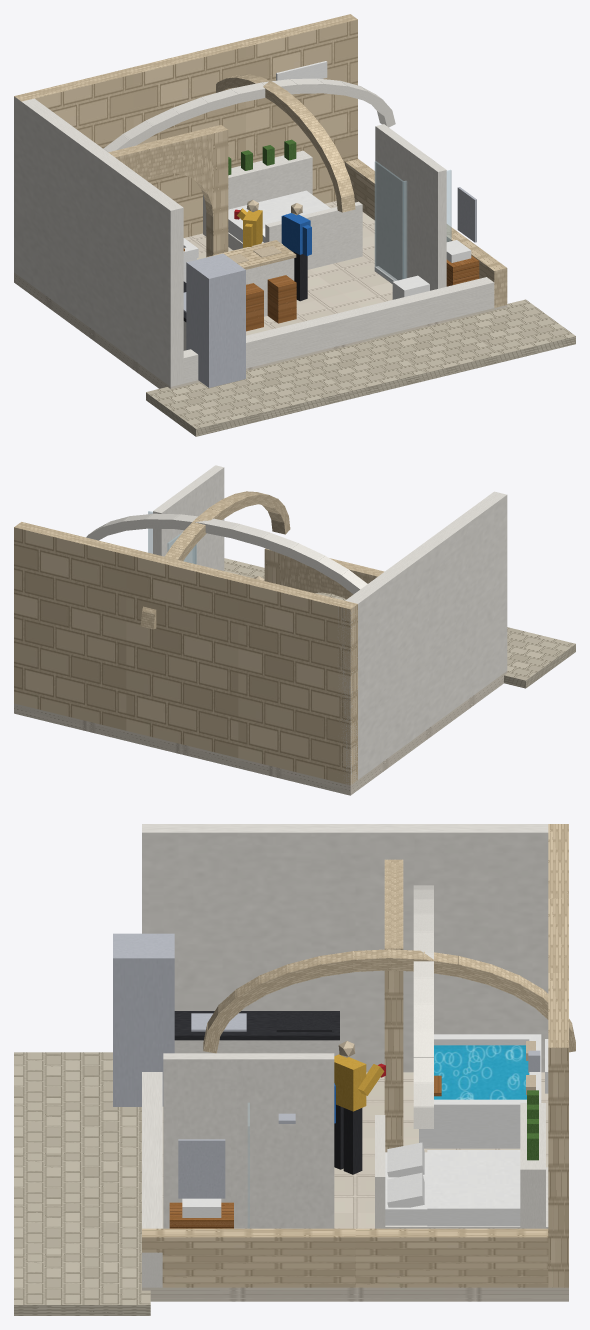
File: coppia2_messapi.glb
3 renders of one model, top to bottom at view 1: azimuth 30°, elevation 25°; view 2: azimuth 150°, elevation 25°; view 3: azimuth 270°, elevation 25°, orthographic. The views are drawn at different scales.
Visible parts, largest first — view 1: Wall_W, Wall_N, Ceglie_Step, Bath_Div, Wall_Front_Cut, Mes_Kitchen_fridge, Jac_Arch, Messapi_Floor, Ceglie_Step_sub, Head_Ledge, Mes_Bed_head, Mes_Bath_sh_gl2 (+17 smaller); view 2: Wall_N, Wall_W, Messapi_Floor_sub, Bath_Div, Ceglie_Step, Jac_Arch, Ceglie_Step_sub, Vault_Main_r7, Vault_Main_r6, Vault_Main_r5, Vault_Main_r4, Vault_Main_r8 (+2 smaller); view 3: Wall_W, Ceglie_Step, Bath_Div, Wall_E_Cut, Wall_N, Mes_Kitchen_fridge, Mes_Bed_quilt, Messapi_Floor_sub, Messapi_Floor, Jac_Arch, Mes_Jacuzzi_water, Wall_Front_Cut (+27 smaller).
Boxes of the visible parts, left/top/right/bottom form: Wall_W: left=14, top=96, right=183, bottom=386; Wall_N: left=14, top=14, right=357, bottom=237; Ceglie_Step: left=146, top=299, right=575, bottom=428; Bath_Div: left=375, top=124, right=446, bottom=290; Wall_Front_Cut: left=183, top=277, right=494, bottom=383; Mes_Kitchen_fridge: left=186, top=253, right=245, bottom=387; Jac_Arch: left=108, top=125, right=228, bottom=256; Messapi_Floor: left=184, top=201, right=392, bottom=335; Ceglie_Step_sub: left=146, top=336, right=575, bottom=436; Head_Ledge: left=203, top=150, right=312, bottom=236; Mes_Bed_head: left=265, top=201, right=362, bottom=269; Mes_Bath_sh_gl2: left=374, top=161, right=403, bottom=281; Wall_N: left=14, top=522, right=357, bottom=785; Wall_W: left=338, top=491, right=507, bottom=784; Messapi_Floor_sub: left=14, top=671, right=507, bottom=795; Bath_Div: left=153, top=465, right=224, bottom=570; Ceglie_Step: left=224, top=558, right=575, bottom=680; Jac_Arch: left=264, top=548, right=384, bottom=599; Ceglie_Step_sub: left=504, top=644, right=575, bottom=688; Vault_Main_r7: left=230, top=523, right=269, bottom=546; Vault_Main_r6: left=260, top=532, right=298, bottom=556; Vault_Main_r5: left=288, top=542, right=325, bottom=568; Vault_Main_r4: left=314, top=555, right=348, bottom=581; Vault_Main_r8: left=201, top=518, right=239, bottom=537; Wall_W: left=142, top=824, right=548, bottom=1072; Ceglie_Step: left=14, top=1052, right=150, bottom=1304; Bath_Div: left=163, top=1053, right=334, bottom=1228; Wall_E_Cut: left=142, top=1228, right=548, bottom=1287; Wall_N: left=548, top=824, right=568, bottom=1287; Mes_Kitchen_fridge: left=113, top=933, right=174, bottom=1106; Mes_Bed_quilt: left=427, top=1150, right=520, bottom=1226; Messapi_Floor_sub: left=142, top=1287, right=568, bottom=1301; Messapi_Floor: left=162, top=1072, right=548, bottom=1228; Jac_Arch: left=384, top=859, right=403, bottom=1152; Mes_Jacuzzi_water: left=434, top=1045, right=529, bottom=1099; Wall_Front_Cut: left=142, top=1072, right=162, bottom=1287.
Size of the model in its own units: 7 by 3.33 by 6.58.
14 materials, 14 textured.
